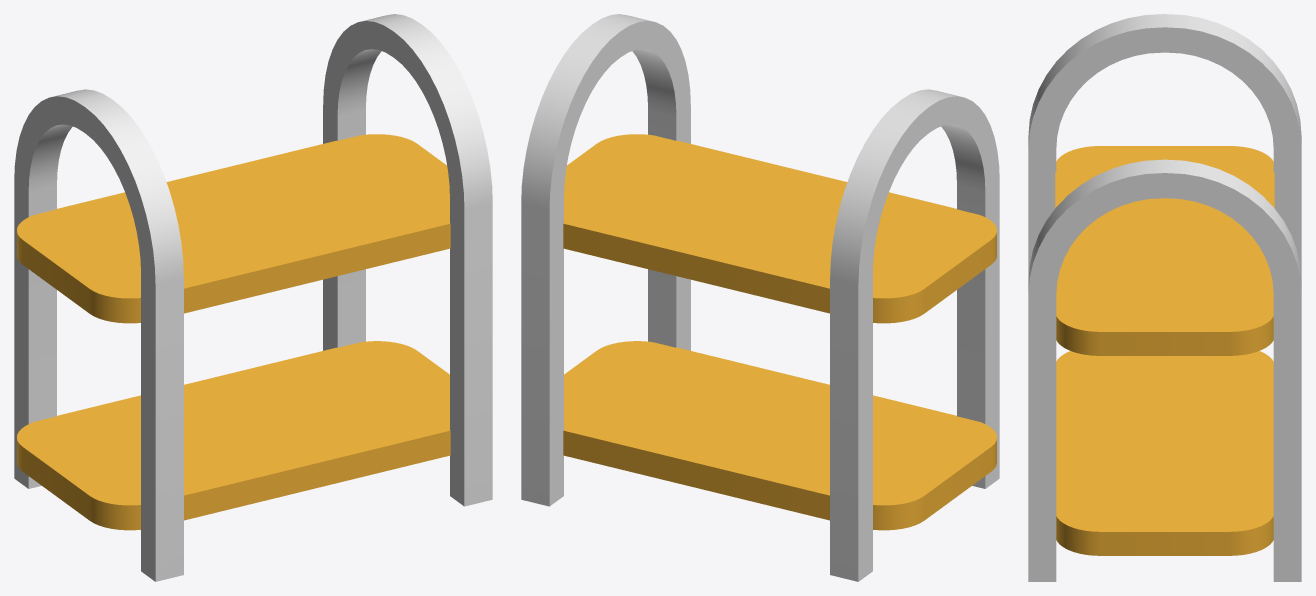
File: Rack Yellow.fbx
3 views of the same model, side by side, from view 1: azimuth 30°, elevation 25°; view 2: azimuth 150°, elevation 25°; view 3: azimuth 270°, elevation 25° (orthographic). The views are drawn at different scales.
Visible parts, largest first — view 1: Rack Yellow; view 2: Rack Yellow; view 3: Rack Yellow.
Boxes of the visible parts, x1=… form: Rack Yellow: x1=14, y1=14, x2=492, y2=581; Rack Yellow: x1=521, y1=14, x2=999, y2=581; Rack Yellow: x1=1028, y1=14, x2=1301, y2=581.
Size of the model in its own units: 138 by 141 by 85.46.
